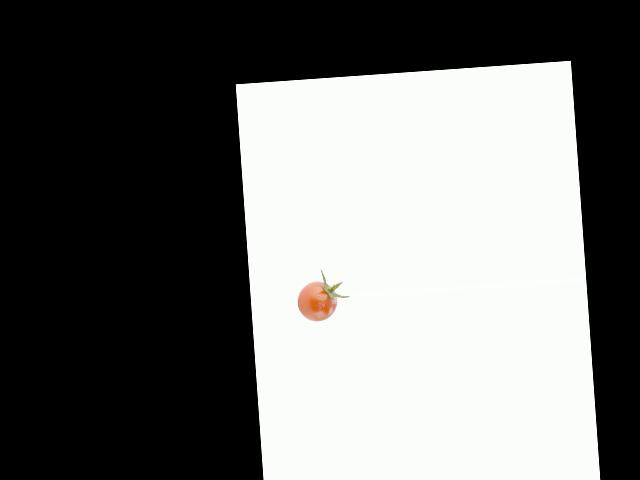tomato: (296, 281, 338, 323)
